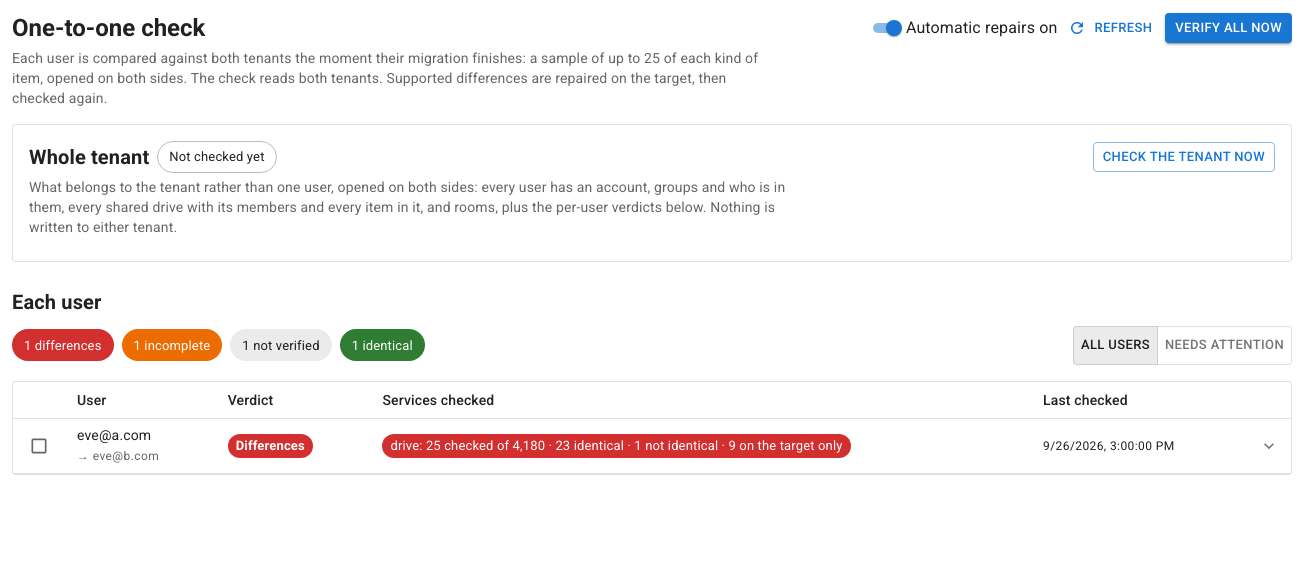
Scenario: what is found › does not promise more than it can show: strays are not counted, what is listed is
What coordinates should you click on to do the following:
click the button named "show eve@a.com"
I would click on:
 (1269, 446)
Its box is 1259,436 -> 1279,456.
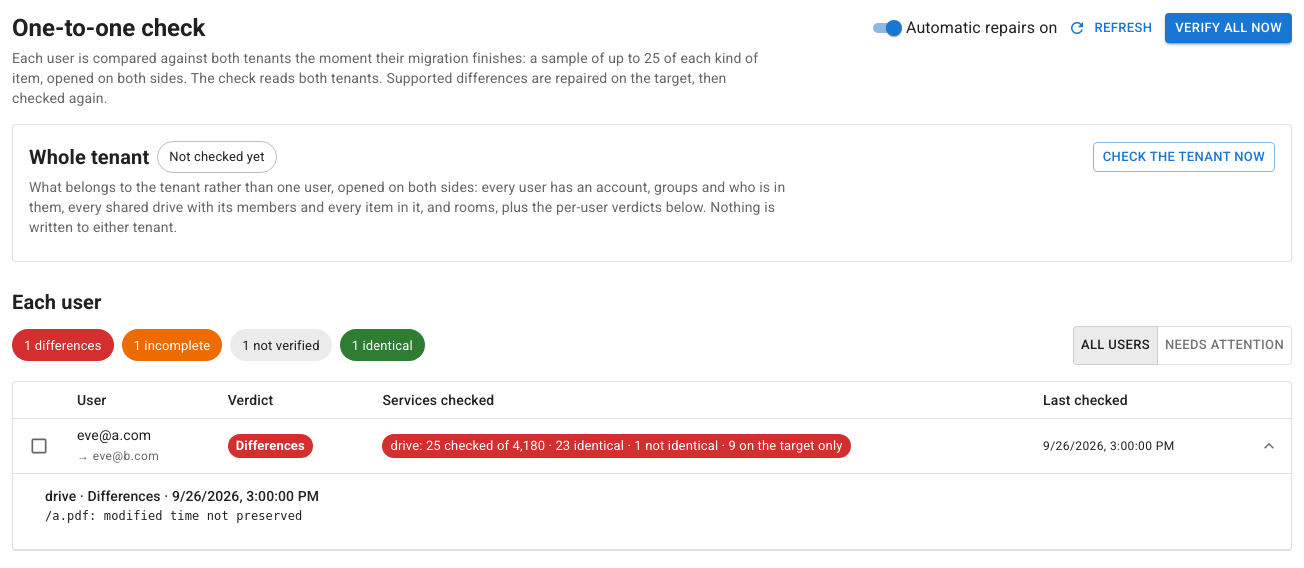
Expected: the text "/a.pdf: modified time not preserved" is shown, 45,509 -> 302,523
